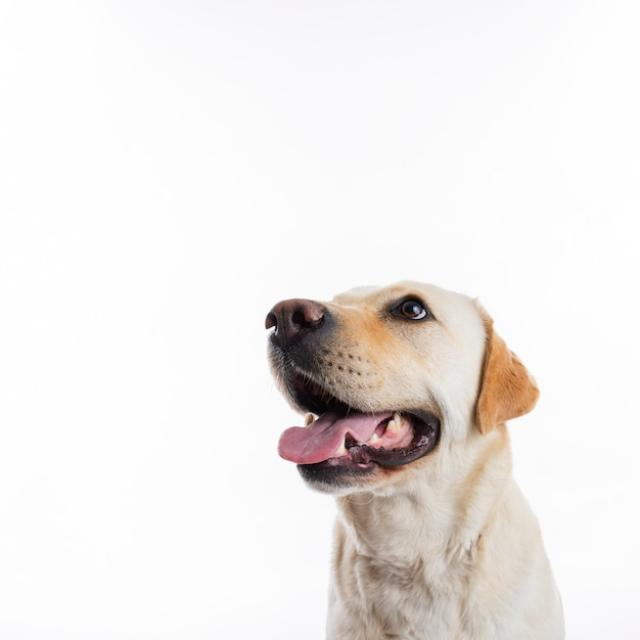Dog: (264, 278, 567, 640)
